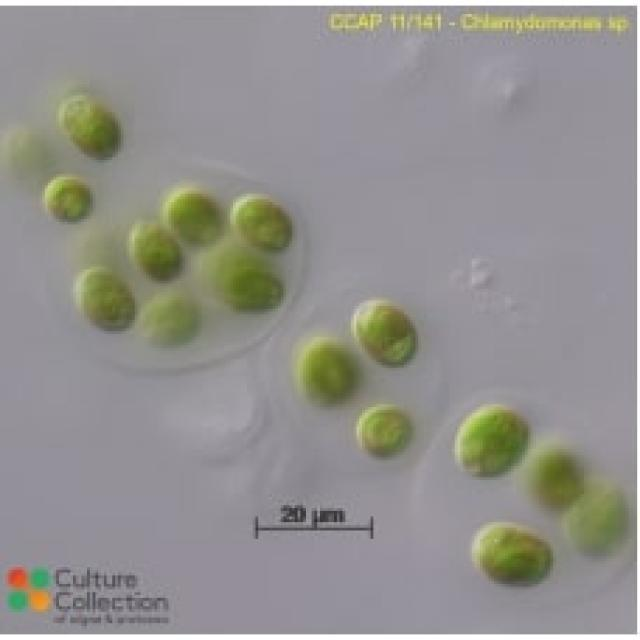Green Algae: (449, 399, 531, 480), (474, 516, 553, 590), (54, 87, 124, 160), (351, 300, 421, 368), (73, 261, 138, 334), (295, 337, 362, 404), (230, 188, 292, 253), (129, 216, 185, 281), (208, 266, 286, 312), (163, 186, 227, 242), (356, 402, 416, 461), (42, 174, 96, 225)
